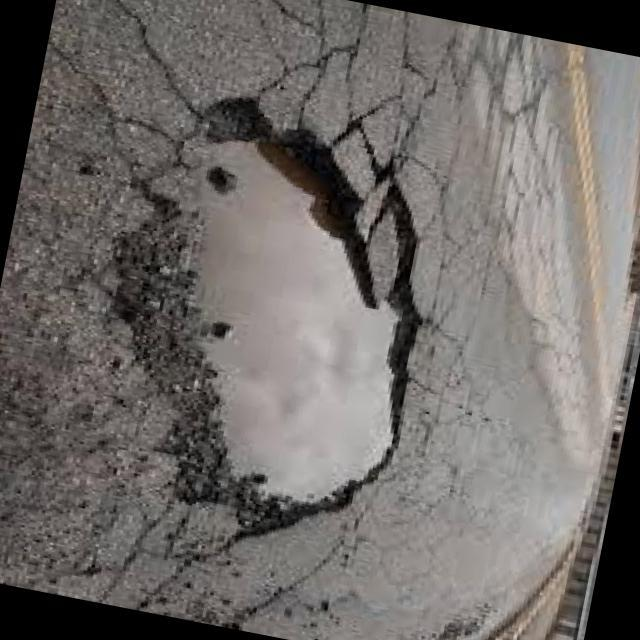pothole: (91, 74, 467, 563)
